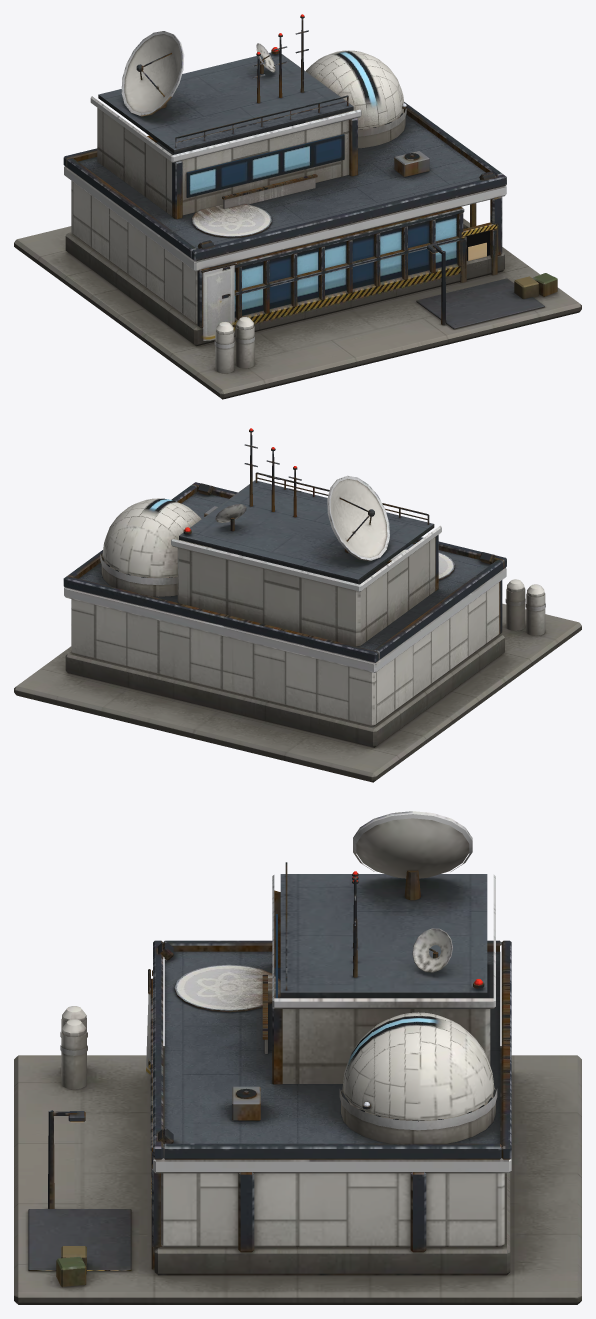
The model's file is atek.allies.glb.
3 renders of one model, top to bottom at view 1: azimuth 30°, elevation 25°; view 2: azimuth 150°, elevation 25°; view 3: azimuth 270°, elevation 25°, orthographic. The views are drawn at different scales.
Visible parts, largest first — view 1: root_mesh, dish_mesh; view 2: root_mesh, dish_mesh; view 3: root_mesh, dish_mesh.
Boxes of the visible parts, box(x1,y1,x2,y2) form: root_mesh: box(14, 14, 581, 399); dish_mesh: box(121, 31, 184, 116); root_mesh: box(14, 428, 581, 782); dish_mesh: box(327, 475, 389, 561); root_mesh: box(14, 862, 581, 1304); dish_mesh: box(353, 811, 472, 900).
Size of the model in its own units: 1.98 by 1.28 by 1.98.
1 material, 1 textured.
